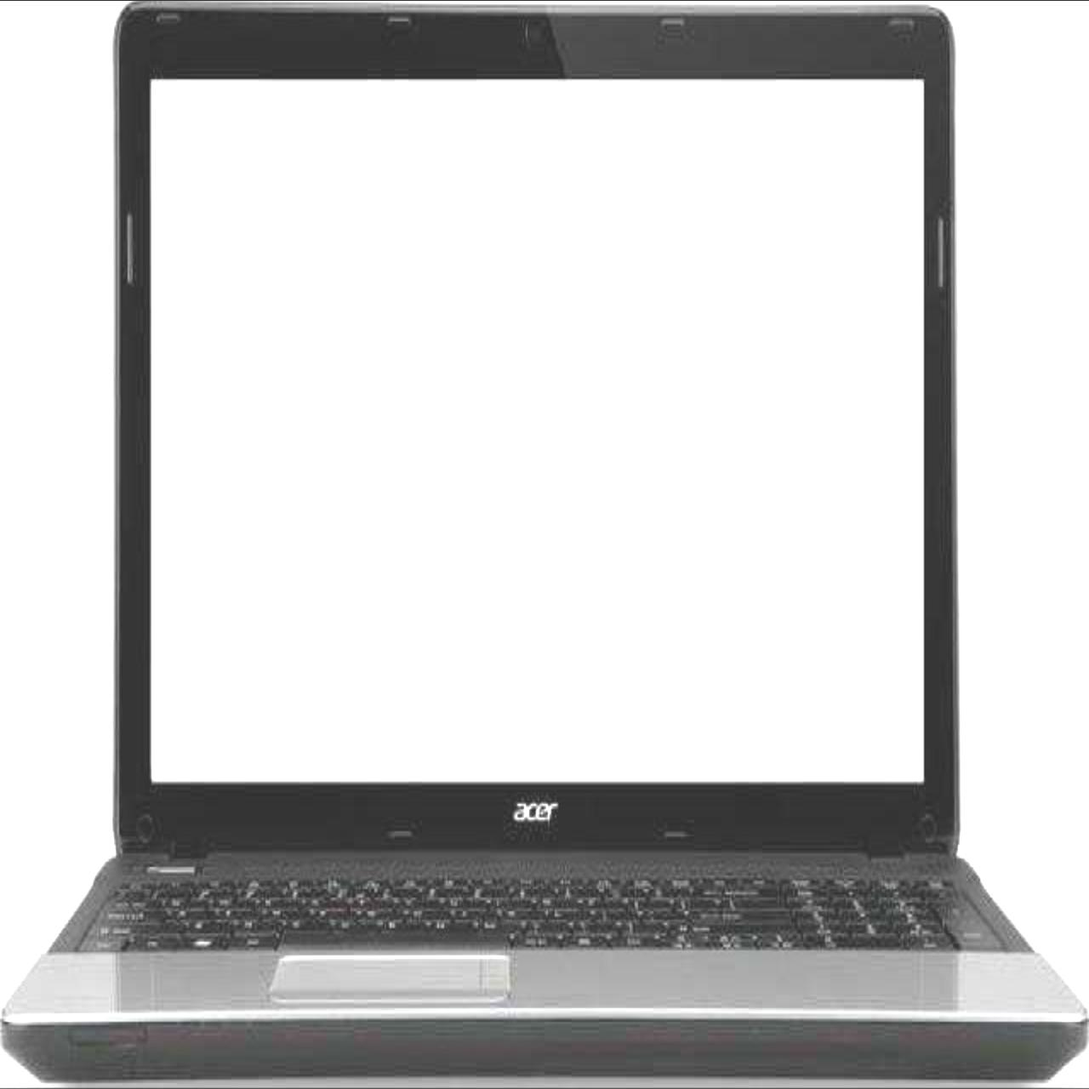laptop: (103, 7, 952, 1055)
